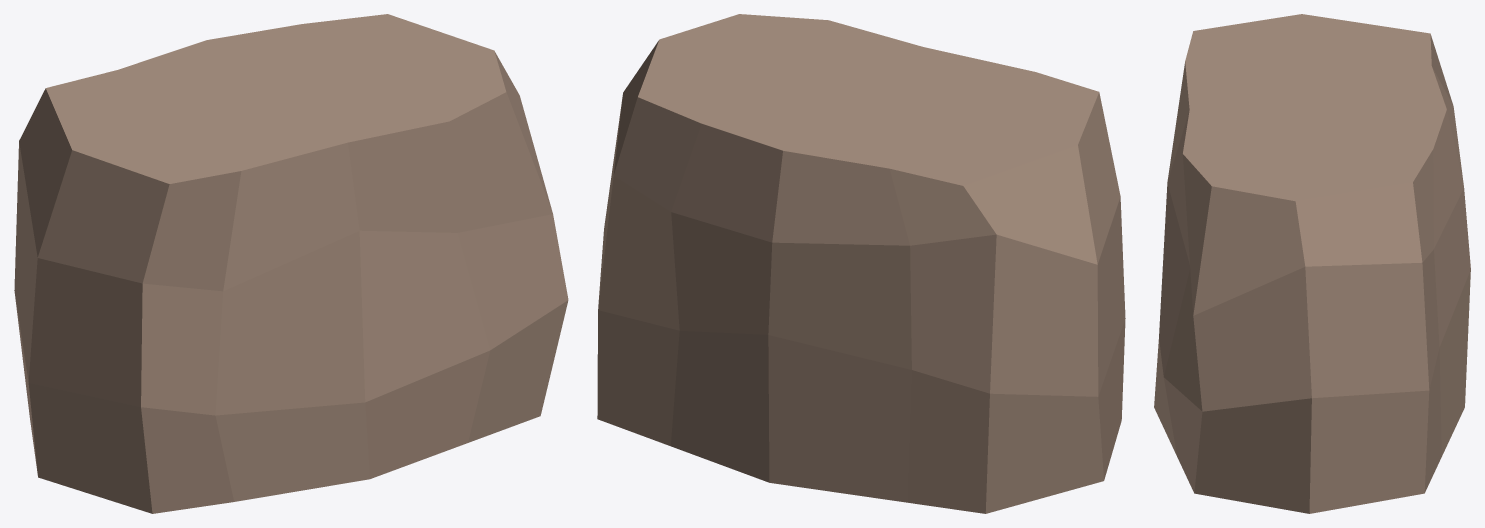
File: Stackable_Rock_5_3_3_Colored.fbx
3 renders of one model, left to right at view 1: azimuth 30°, elevation 25°; view 2: azimuth 150°, elevation 25°; view 3: azimuth 270°, elevation 25°, orthographic. The views are drawn at different scales.
Visible parts, largest first — view 1: Stackable_Rock_5_3_3; view 2: Stackable_Rock_5_3_3; view 3: Stackable_Rock_5_3_3.
Boxes of the visible parts, <box> form: Stackable_Rock_5_3_3: <box>14,14,568,513</box>; Stackable_Rock_5_3_3: <box>597,14,1125,513</box>; Stackable_Rock_5_3_3: <box>1154,14,1470,513</box>.
Size of the model in its own units: 482 by 300 by 291.
